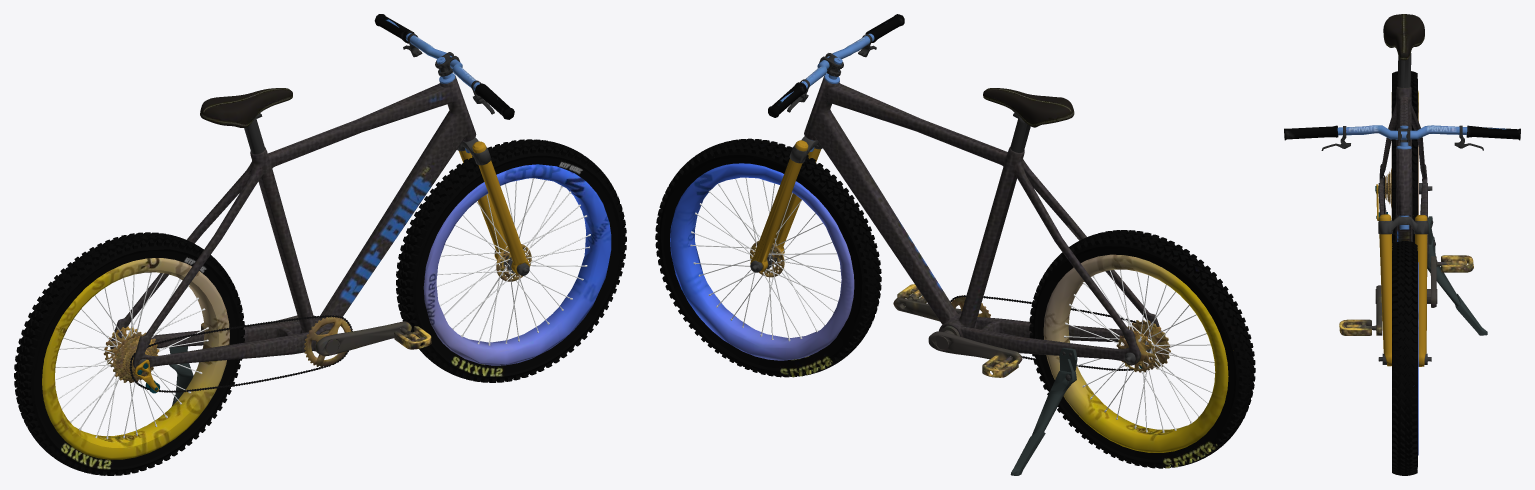
Rendered from rif.glb.
The picture shows the model from 3 angles, left to right: view 1: azimuth 30°, elevation 25°; view 2: azimuth 150°, elevation 25°; view 3: azimuth 270°, elevation 25°; orthographic projection. The views are drawn at different scales.
Parts seen in each view (by area): view 1: finbike1:pCylinder58_finbike1:lambert13SG1_0, finbike1:tire3_finbike1:lambert15SG1_0, finbike1:pCube6_finbike1:lambert7SG1_0, finbike1:group8TIREtire1polySurface23_finbike1:initialShadin, finbike1:polySurface1_finbike1:lambert20SG1_0, finbike1:group21pCube17_finbike1:lambert24SG1_0, finbike1:group19_mirrored_z_3_finbike1:lambert23SG1_0, finbike1:duplicated_02group13_finbike1:lambert3SG1_0, finbike1:MASH2_ReproMesh_finbike1:lambert2SG1_0, finbike1:pCylinder54_finbike1:lambert31SG1_0, finbike1:_pSphere4_finbike1:lambert29SG1_0; view 2: finbike1:pCylinder58_finbike1:lambert13SG1_0, finbike1:pCube6_finbike1:lambert7SG1_0, finbike1:tire3_finbike1:lambert15SG1_0, finbike1:group8TIREtire1polySurface23_finbike1:initialShadin, finbike1:group19_mirrored_z_3_finbike1:lambert23SG1_0, finbike1:group21pCube17_finbike1:lambert24SG1_0, finbike1:polySurface1_finbike1:lambert20SG1_0, finbike1:duplicated_02group13_finbike1:lambert3SG1_0, finbike1:_pCube18group20_finbike1:lambert27SG1_0, finbike1:pCylinder54_finbike1:lambert31SG1_0, finbike1:_pSphere4_finbike1:lambert29SG1_0, finbike1:pCylinder101_finbike1:lambert11SG1_0; view 3: finbike1:pCylinder58_finbike1:lambert13SG1_0, finbike1:pCube6_finbike1:lambert7SG1_0, finbike1:group21pCube17_finbike1:lambert24SG1_0, finbike1:group19_mirrored_z_3_finbike1:lambert23SG1_0, finbike1:duplicated_02group13_finbike1:lambert3SG1_0, finbike1:pCylinder54_finbike1:lambert31SG1_0, finbike1:_pCube18group20_finbike1:lambert27SG1_0, finbike1:pCylinder101_finbike1:lambert11SG1_0, finbike1:_pSphere4_finbike1:lambert29SG1_0, finbike1:group25_duplicated_01_finbike1:lambert6SG1_0, finbike1:tire3_finbike1:lambert15SG1_0.
Part boxes in pixels (left/top/right/bottom): finbike1:pCylinder58_finbike1:lambert13SG1_0: left=14, top=14, right=626, bottom=475; finbike1:tire3_finbike1:lambert15SG1_0: left=42, top=164, right=611, bottom=459; finbike1:pCube6_finbike1:lambert7SG1_0: left=110, top=75, right=476, bottom=371; finbike1:group8TIREtire1polySurface23_finbike1:initialShadin: left=55, top=178, right=590, bottom=439; finbike1:polySurface1_finbike1:lambert20SG1_0: left=103, top=244, right=531, bottom=382; finbike1:group21pCube17_finbike1:lambert24SG1_0: left=134, top=141, right=529, bottom=391; finbike1:group19_mirrored_z_3_finbike1:lambert23SG1_0: left=201, top=315, right=431, bottom=356; finbike1:duplicated_02group13_finbike1:lambert3SG1_0: left=200, top=88, right=292, bottom=127; finbike1:MASH2_ReproMesh_finbike1:lambert2SG1_0: left=129, top=315, right=352, bottom=392; finbike1:pCylinder54_finbike1:lambert31SG1_0: left=382, top=17, right=479, bottom=153; finbike1:_pSphere4_finbike1:lambert29SG1_0: left=403, top=33, right=494, bottom=114; finbike1:pCylinder58_finbike1:lambert13SG1_0: left=655, top=14, right=1255, bottom=468; finbike1:pCube6_finbike1:lambert7SG1_0: left=804, top=76, right=1161, bottom=365; finbike1:tire3_finbike1:lambert15SG1_0: left=670, top=163, right=1228, bottom=452; finbike1:group8TIREtire1polySurface23_finbike1:initialShadin: left=690, top=177, right=1214, bottom=432; finbike1:group19_mirrored_z_3_finbike1:lambert23SG1_0: left=893, top=284, right=1022, bottom=377; finbike1:group21pCube17_finbike1:lambert24SG1_0: left=750, top=140, right=821, bottom=272; finbike1:polySurface1_finbike1:lambert20SG1_0: left=750, top=241, right=1170, bottom=372; finbike1:duplicated_02group13_finbike1:lambert3SG1_0: left=983, top=88, right=1074, bottom=127; finbike1:_pCube18group20_finbike1:lambert27SG1_0: left=1010, top=347, right=1077, bottom=475; finbike1:pCylinder54_finbike1:lambert31SG1_0: left=776, top=33, right=874, bottom=151; finbike1:_pSphere4_finbike1:lambert29SG1_0: left=787, top=34, right=1072, bottom=380; finbike1:pCylinder101_finbike1:lambert11SG1_0: left=750, top=136, right=1150, bottom=363; finbike1:pCylinder58_finbike1:lambert13SG1_0: left=1284, top=71, right=1520, bottom=475; finbike1:pCube6_finbike1:lambert7SG1_0: left=1378, top=86, right=1428, bottom=261; finbike1:group21pCube17_finbike1:lambert24SG1_0: left=1376, top=184, right=1427, bottom=366; finbike1:group19_mirrored_z_3_finbike1:lambert23SG1_0: left=1339, top=255, right=1473, bottom=335; finbike1:duplicated_02group13_finbike1:lambert3SG1_0: left=1383, top=14, right=1424, bottom=60; finbike1:pCylinder54_finbike1:lambert31SG1_0: left=1337, top=125, right=1514, bottom=229; finbike1:_pCube18group20_finbike1:lambert27SG1_0: left=1427, top=216, right=1487, bottom=335; finbike1:pCylinder101_finbike1:lambert11SG1_0: left=1378, top=183, right=1432, bottom=364; finbike1:_pSphere4_finbike1:lambert29SG1_0: left=1321, top=125, right=1483, bottom=246; finbike1:group25_duplicated_01_finbike1:lambert6SG1_0: left=1397, top=53, right=1411, bottom=87; finbike1:tire3_finbike1:lambert15SG1_0: left=1391, top=90, right=1418, bottom=455.
Size of the model in its own units: 13.9 by 7.66 by 5.16.
17 materials, 7 textured.
